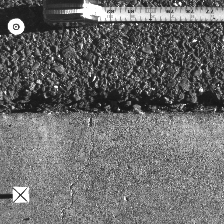circle: (7, 17, 25, 35)
crack: (1, 95, 223, 114)
square: (12, 187, 29, 203)
